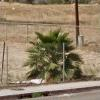Palm tree: (27, 21, 75, 81)
